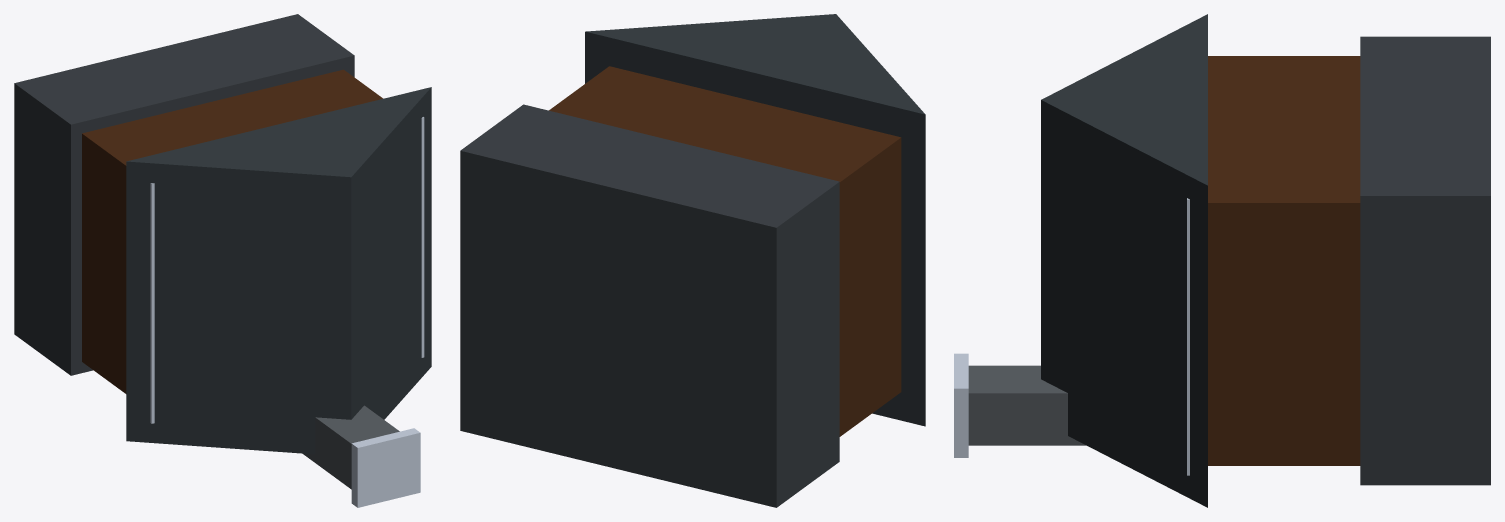
The model's file is Northern_Longhouse.obj.
3 views of the same model, side by side, from view 1: azimuth 30°, elevation 25°; view 2: azimuth 150°, elevation 25°; view 3: azimuth 270°, elevation 25° (orthographic). The views are drawn at different scales.
Visible parts, largest first — view 1: Northern_Longhouse; view 2: Northern_Longhouse; view 3: Northern_Longhouse.
Boxes of the visible parts, box(x1,y1,x2,y2) form: Northern_Longhouse: box(14, 14, 431, 507); Northern_Longhouse: box(460, 14, 925, 507); Northern_Longhouse: box(954, 14, 1490, 507).
Bounding box in the file's own units: 560 × 518 × 740.
